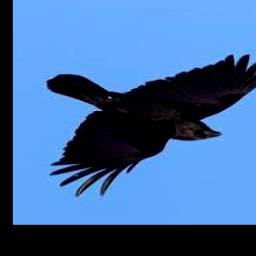Crow: (45, 55, 256, 197)
